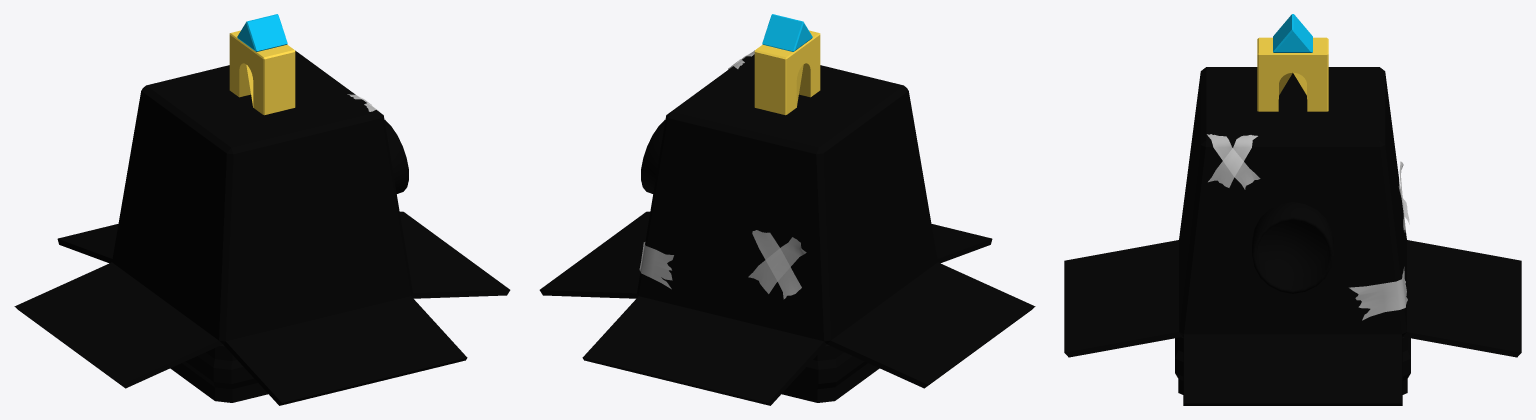
File: launcherwithbase.fbx
3 renders of one model, left to right at view 1: azimuth 30°, elevation 25°; view 2: azimuth 150°, elevation 25°; view 3: azimuth 270°, elevation 25°, orthographic.
Visible parts, largest first — view 1: launcher, base; view 2: launcher, base; view 3: launcher, base.
Part boxes in pixels (x1,y1,x2,y2): launcher: (14,14,510,405); base: (170,344,268,402); launcher: (539,14,1035,405); base: (781,344,879,402); launcher: (1064,14,1521,405); base: (1175,337,1410,394).
Bounding box in the file's own units: 399 × 320 × 399.
